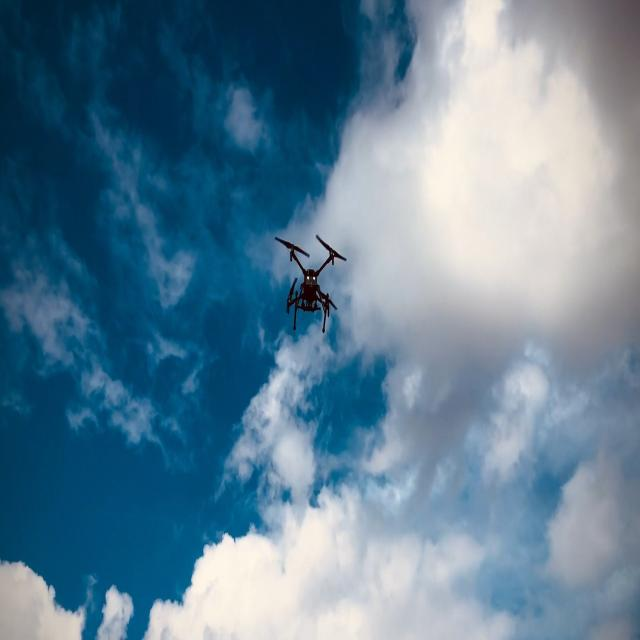drone: (274, 232, 347, 334)
